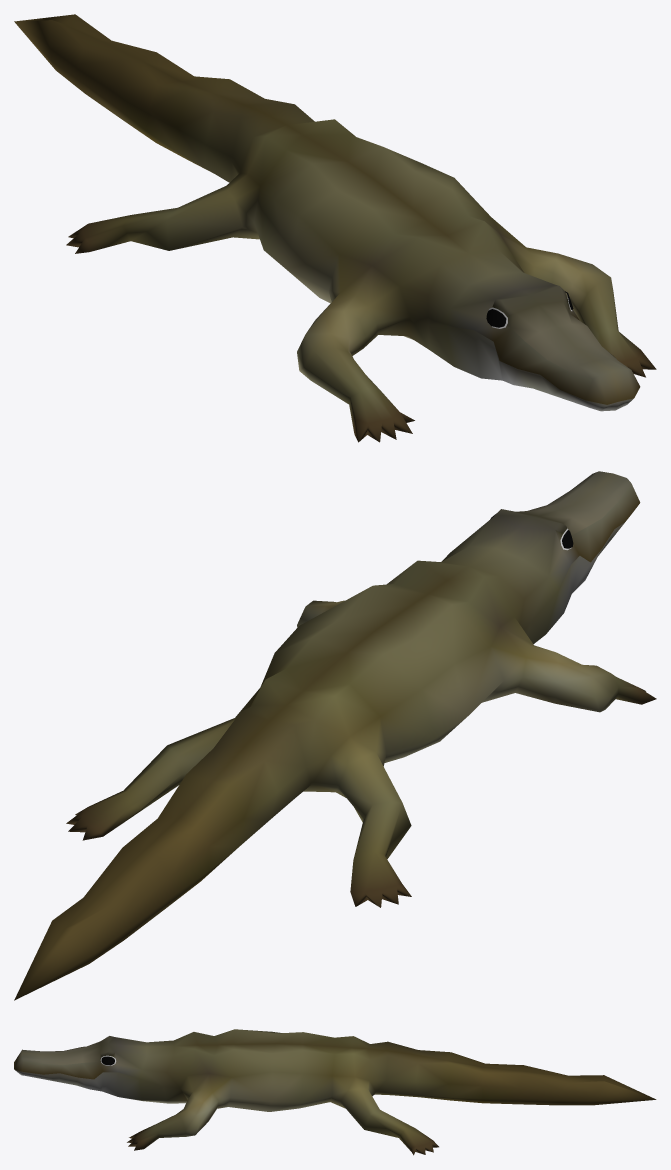
The model's file is kit-alligator.glb.
The picture shows the model from 3 angles, top to bottom: view 1: azimuth 30°, elevation 25°; view 2: azimuth 150°, elevation 25°; view 3: azimuth 270°, elevation 25°; orthographic projection. The views are drawn at different scales.
Visible parts, largest first — view 1: base; view 2: base; view 3: base.
Part boxes in pixels (box(x1,y1,x2,y2)): base: box(14, 14, 656, 442); base: box(14, 471, 656, 1000); base: box(14, 1029, 656, 1155).
Size of the model in its own units: 1.73 by 0.6729 by 5.4.
